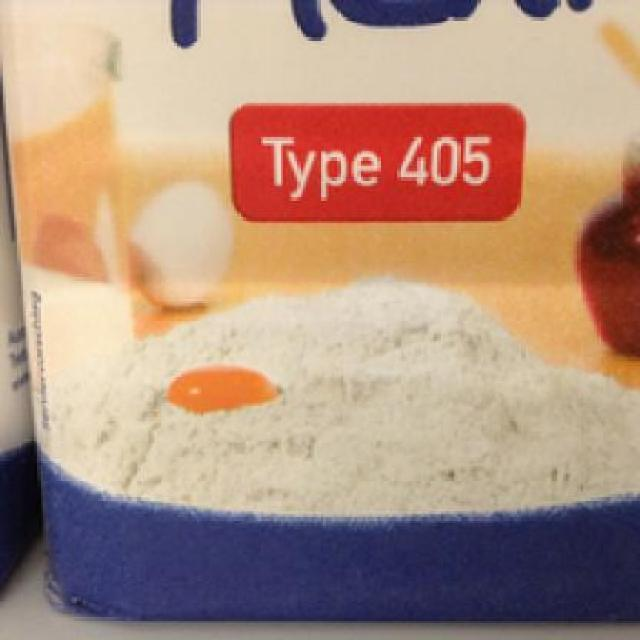Flour: (0, 0, 629, 620)
